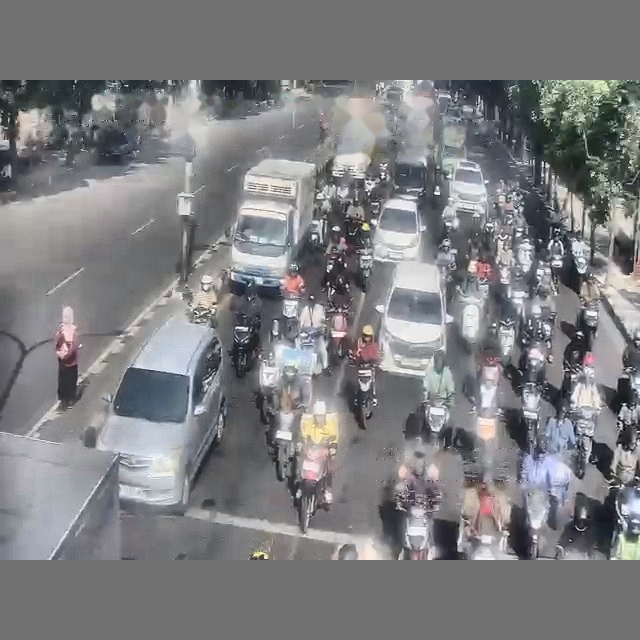Mobil: (95, 315, 226, 512), (375, 262, 452, 376), (373, 194, 425, 262), (449, 162, 487, 215), (394, 150, 427, 197), (96, 127, 138, 161), (457, 159, 480, 170), (461, 104, 475, 121)
Motor: (298, 444, 331, 533), (398, 495, 437, 559), (349, 353, 375, 428), (525, 487, 549, 558), (272, 411, 296, 481), (574, 407, 597, 478), (232, 314, 257, 378), (258, 357, 280, 425), (421, 394, 448, 447), (327, 305, 350, 367), (522, 382, 541, 452), (522, 340, 547, 383), (281, 292, 300, 340), (580, 301, 598, 350), (498, 316, 514, 367), (357, 247, 373, 292), (309, 216, 326, 252), (188, 307, 216, 327)
Truk: (0, 432, 121, 559), (229, 158, 315, 289)
